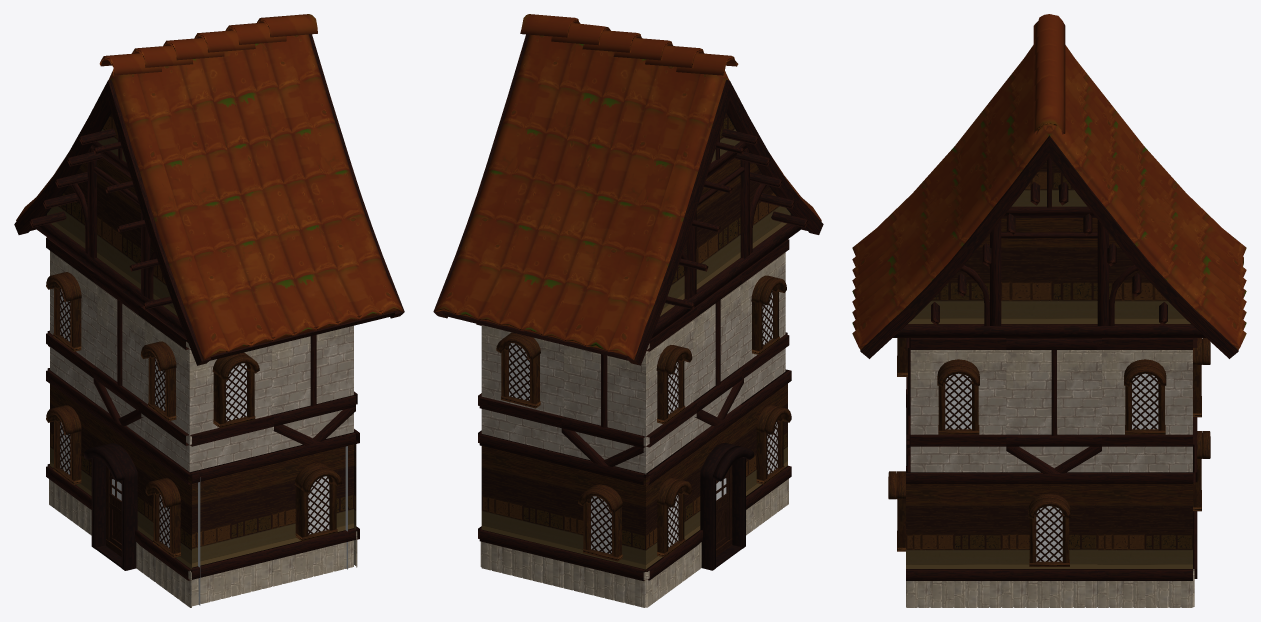
File: Casa_alta3.obj
3 views of the same model, side by side, from view 1: azimuth 30°, elevation 25°; view 2: azimuth 150°, elevation 25°; view 3: azimuth 270°, elevation 25° (orthographic).
Visible parts, largest first — view 1: StaticMeshActor_350, StaticMeshActor_346, StaticMeshActor_352, StaticMeshActor_354, StaticMeshActor_353, StaticMeshActor_345, StaticMeshActor_355, StaticMeshActor_342, StaticMeshActor_347, StaticMeshActor_344, StaticMeshActor_341, StaticMeshActor_338 (+9 smaller); view 2: StaticMeshActor_350, StaticMeshActor_346, StaticMeshActor_368, StaticMeshActor_370, StaticMeshActor_369, StaticMeshActor_371, StaticMeshActor_345, StaticMeshActor_338, StaticMeshActor_347, StaticMeshActor_342, StaticMeshActor_344, StaticMeshActor_341 (+8 smaller); view 3: StaticMeshActor_350, StaticMeshActor_365, StaticMeshActor_358, StaticMeshActor_359, StaticMeshActor_362, StaticMeshActor_360, StaticMeshActor_363, StaticMeshActor_367, StaticMeshActor_364, StaticMeshActor_366, StaticMeshActor_361, StaticMeshActor_357 (+2 smaller).
Boxes of the visible parts, x1,y1,x2,y2 form: StaticMeshActor_350: (14, 14, 404, 365); StaticMeshActor_346: (29, 113, 186, 338); StaticMeshActor_352: (189, 452, 273, 606); StaticMeshActor_354: (272, 325, 355, 451); StaticMeshActor_353: (272, 432, 355, 586); StaticMeshActor_345: (93, 272, 144, 438); StaticMeshActor_355: (189, 345, 273, 471); StaticMeshActor_342: (141, 439, 203, 607); StaticMeshActor_347: (46, 237, 97, 404); StaticMeshActor_344: (138, 306, 189, 471); StaticMeshActor_341: (84, 443, 137, 570); StaticMeshActor_338: (46, 370, 97, 535); StaticMeshActor_350: (433, 14, 823, 365); StaticMeshActor_346: (651, 113, 807, 338); StaticMeshActor_368: (479, 434, 563, 587); StaticMeshActor_370: (561, 345, 645, 474); StaticMeshActor_369: (561, 454, 645, 607); StaticMeshActor_371: (479, 325, 563, 453); StaticMeshActor_345: (693, 272, 743, 438); StaticMeshActor_338: (646, 439, 696, 607); StaticMeshActor_347: (646, 307, 696, 473); StaticMeshActor_342: (740, 370, 791, 535); StaticMeshActor_344: (739, 239, 789, 404); StaticMeshActor_341: (700, 443, 753, 570); StaticMeshActor_350: (852, 14, 1246, 358); StaticMeshActor_365: (893, 157, 1205, 337); StaticMeshActor_358: (906, 466, 1001, 607); StaticMeshActor_359: (1097, 472, 1192, 607); StaticMeshActor_362: (1006, 338, 1101, 473); StaticMeshActor_360: (1001, 472, 1097, 607); StaticMeshActor_363: (910, 338, 1006, 472); StaticMeshActor_367: (1097, 338, 1192, 472); StaticMeshActor_364: (937, 359, 979, 434); StaticMeshActor_366: (1124, 359, 1166, 434); StaticMeshActor_361: (1028, 493, 1070, 566); StaticMeshActor_357: (888, 471, 905, 551).
Size of the model in its own units: 559 by 1171 by 825.
